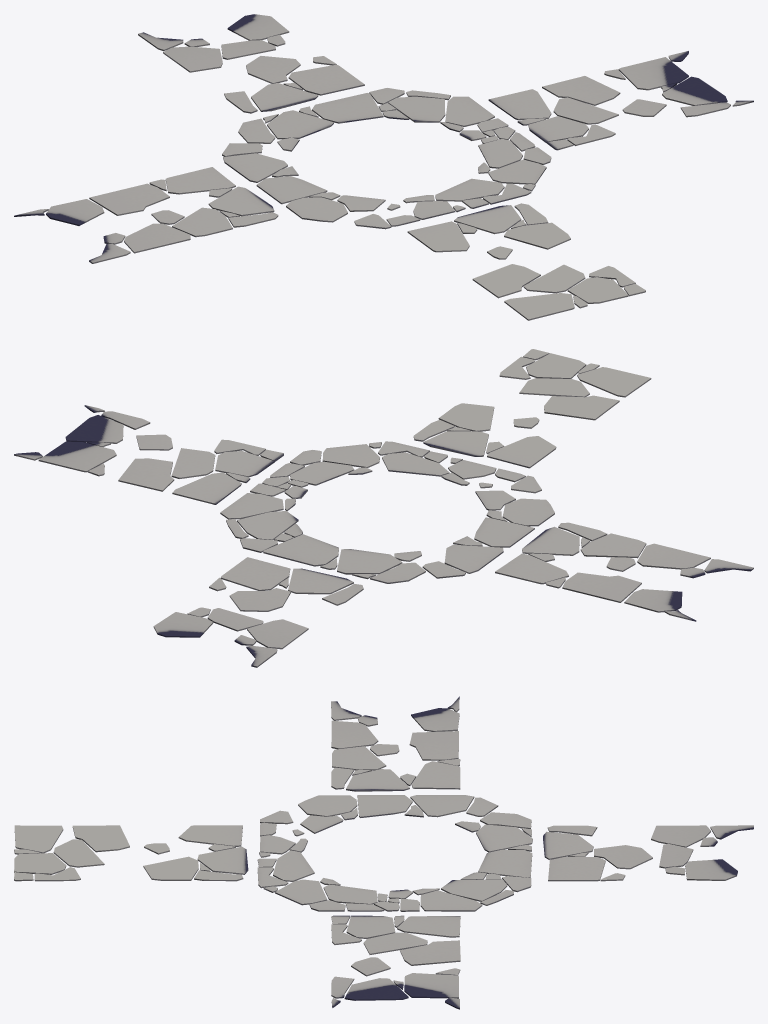
File: Ground_03.FBX
3 views of the same model, one above another, from view 1: azimuth 30°, elevation 25°; view 2: azimuth 150°, elevation 25°; view 3: azimuth 270°, elevation 25° (orthographic). The views are drawn at different scales.
Visible parts, largest first — view 1: Ground_03; view 2: Ground_03; view 3: Ground_03.
Boxes of the visible parts, left/top/right/bottom form: Ground_03: left=14, top=14, right=753, bottom=320; Ground_03: left=14, top=349, right=753, bottom=667; Ground_03: left=14, top=696, right=753, bottom=1009.
Size of the model in its own units: 26.01 by 0.05 by 26.06.
